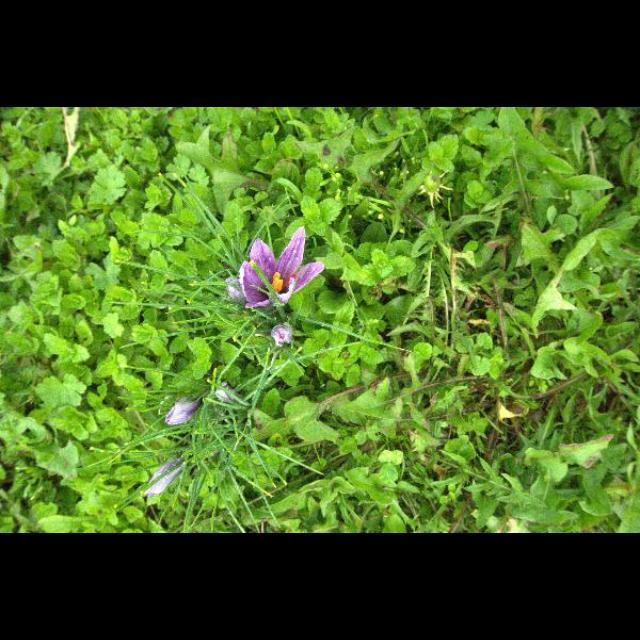flower: (238, 227, 324, 307), (143, 459, 184, 497), (166, 396, 198, 426), (272, 324, 294, 346)
